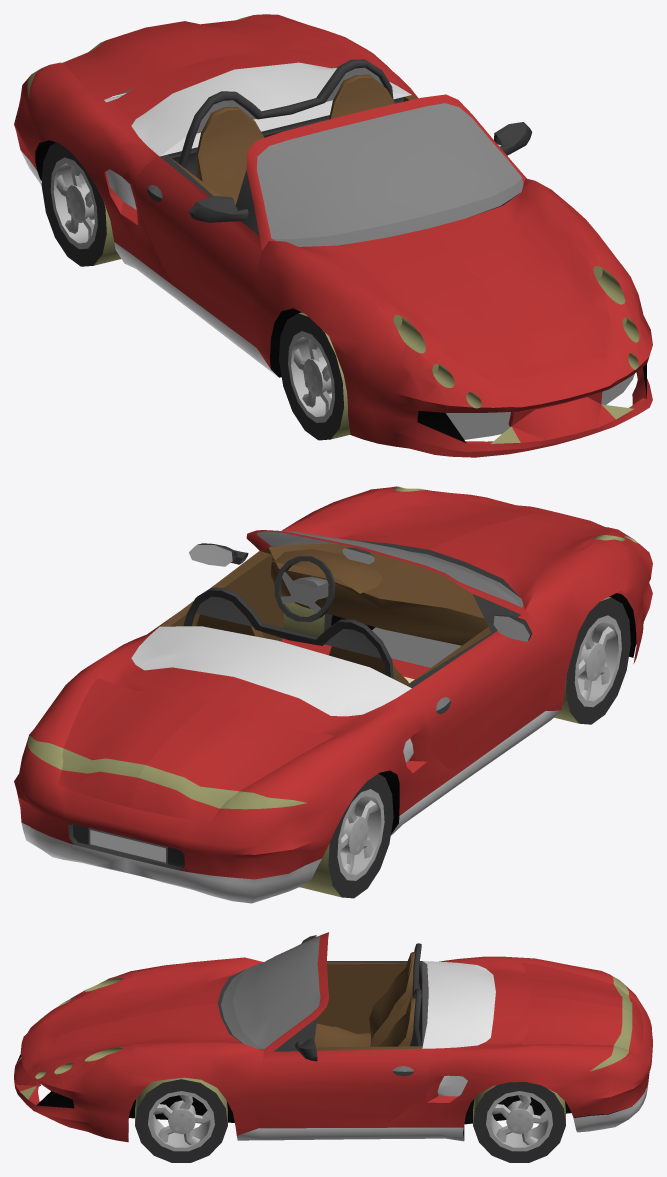
3 renders of one model, top to bottom at view 1: azimuth 30°, elevation 25°; view 2: azimuth 150°, elevation 25°; view 3: azimuth 270°, elevation 25°, orthographic. The views are drawn at different scales.
Visible parts, largest first — view 1: Group_011, Group#3_003, Group#3_001, Group_019, Group_010, Group_003, wheel_002, wheel_004, Group_020, Group_021, Group_013, Group_006 (+3 smaller); view 2: Group_019, Group_011, Group#3_003, Group_010, Group_020, Group_003, Group_021, Group#3_001, wheel_004, wheel_002, Group_004, Group_015 (+5 smaller); view 3: Group#3_001, Group_011, Group_019, Group_009, Group#3_003, wheel_001, Group_003, wheel_003, Group_021, Group_020, Group_005, Group_004 (+4 smaller).
Part boxes in pixels (x1,y1,x2,y2): Group_011: (160,59,634,439); Group#3_003: (255,228,572,457); Group#3_001: (430,178,652,444); Group_019: (14,14,417,284); Group_010: (135,156,261,347); Group_003: (131,62,411,156); wheel_002: (279,312,350,440); wheel_004: (41,142,121,266); Group_020: (63,27,209,101); Group_021: (146,20,334,58); Group_013: (188,122,532,222); Group_006: (114,242,278,377); Group_019: (14,627,458,879); Group_011: (160,530,636,710); Group#3_003: (430,512,652,710); Group_010: (412,615,553,772); Group_020: (130,701,333,821); Group_003: (131,626,411,716); Group_021: (58,678,209,807); Group#3_001: (282,486,555,549); wheel_004: (299,773,393,898); wheel_002: (554,597,630,724); Group_004: (20,809,321,903); Group_015: (271,547,382,621); Group#3_001: (14,1003,263,1142); Group_011: (128,932,422,1136); Group_019: (379,956,652,1127); Group_009: (253,1049,429,1128); Group#3_003: (14,957,263,1091); wheel_001: (135,1077,227,1162); Group_003: (422,961,495,1048); wheel_003: (473,1082,565,1162); Group_021: (521,996,643,1056); Group_020: (521,962,643,1030); Group_005: (237,1127,464,1141); Group_004: (573,1084,648,1132).
Size of the model in its own units: 1697 by 1009 by 3862.
